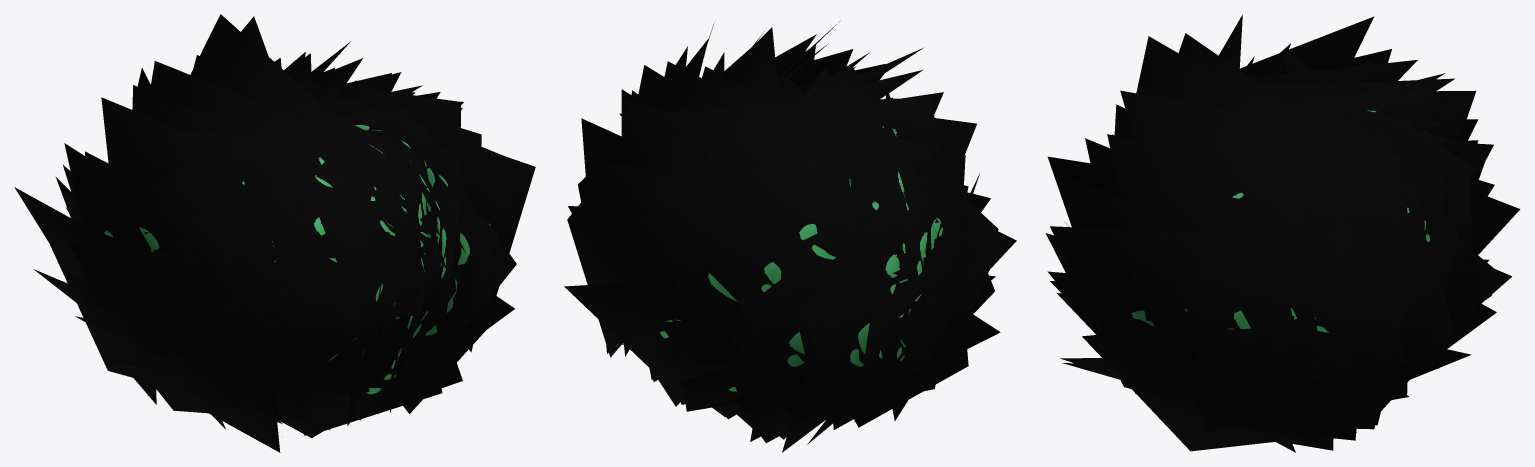
The model's file is Bush_01.fbx.
The picture shows the model from 3 angles, left to right: view 1: azimuth 30°, elevation 25°; view 2: azimuth 150°, elevation 25°; view 3: azimuth 270°, elevation 25°; orthographic projection. The views are drawn at different scales.
Parts seen in each view (by area): view 1: Bush_01; view 2: Bush_01; view 3: Bush_01.
Part boxes in pixels (<box>): Bush_01: <box>14,14,535,452</box>; Bush_01: <box>564,21,1016,452</box>; Bush_01: <box>1045,14,1520,452</box>.
Size of the model in its own units: 471 by 379 by 462.
